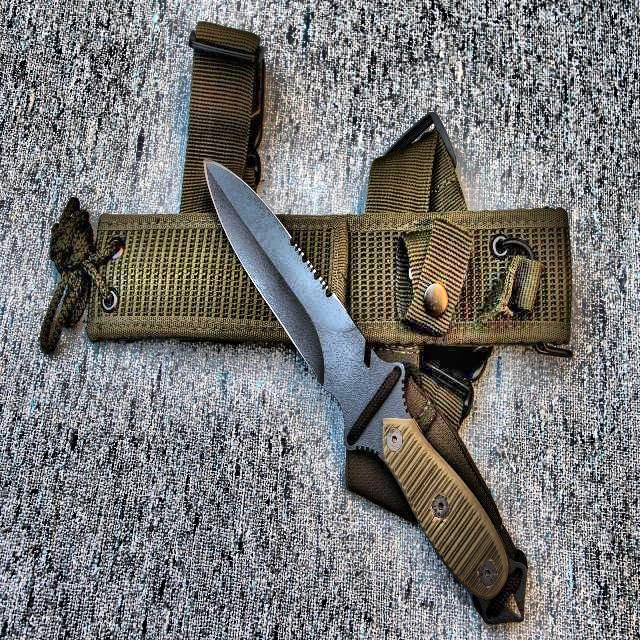knife: (202, 159, 507, 598)
